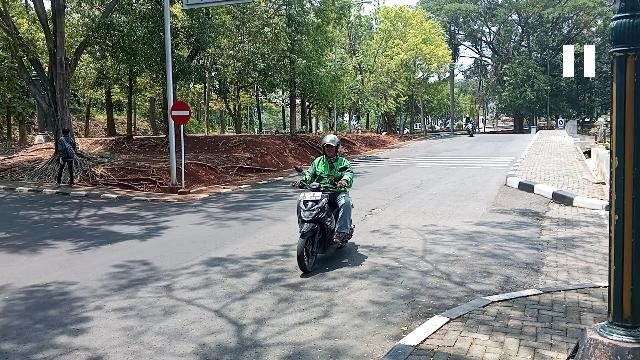helm: (323, 136, 342, 157)
motor: (291, 182, 356, 274)
